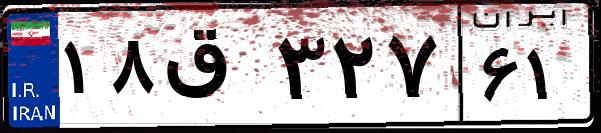1: (57, 26, 110, 100), (525, 38, 570, 115)
2: (330, 28, 385, 110)
3: (270, 28, 330, 110)
6: (475, 38, 525, 113)
7: (385, 28, 445, 110)
8: (110, 28, 158, 98)
ق: (158, 20, 270, 120)
